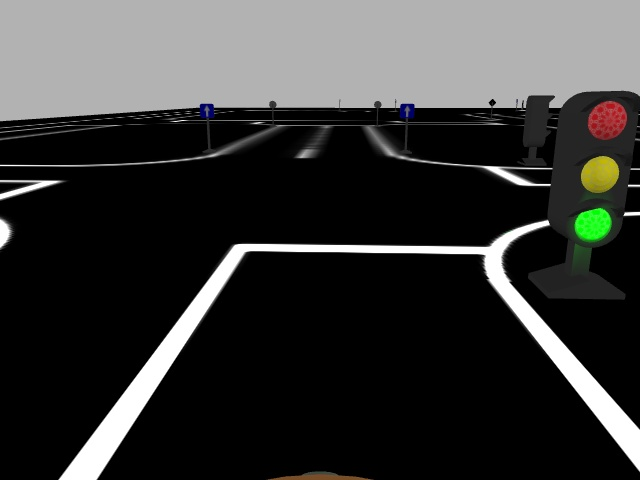green_light: (554, 93, 640, 250)
oneway: (398, 102, 416, 120), (197, 103, 216, 119)
